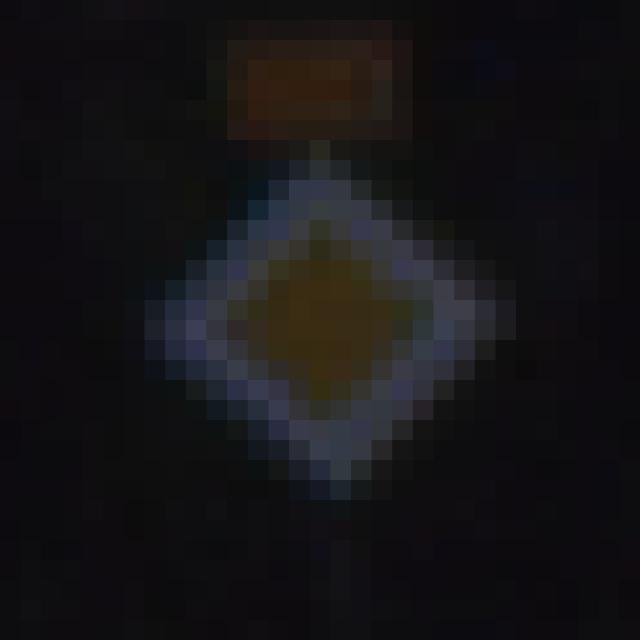Main Road: (104, 101, 538, 541)
